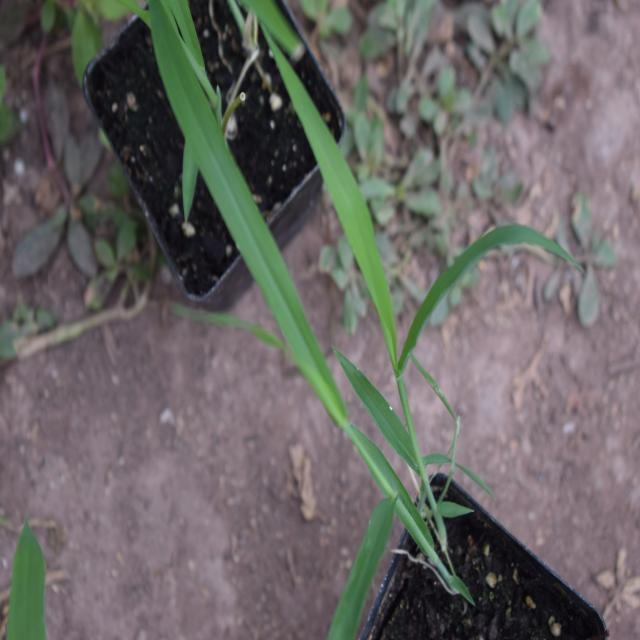crabgrass: (159, 41, 484, 553)
